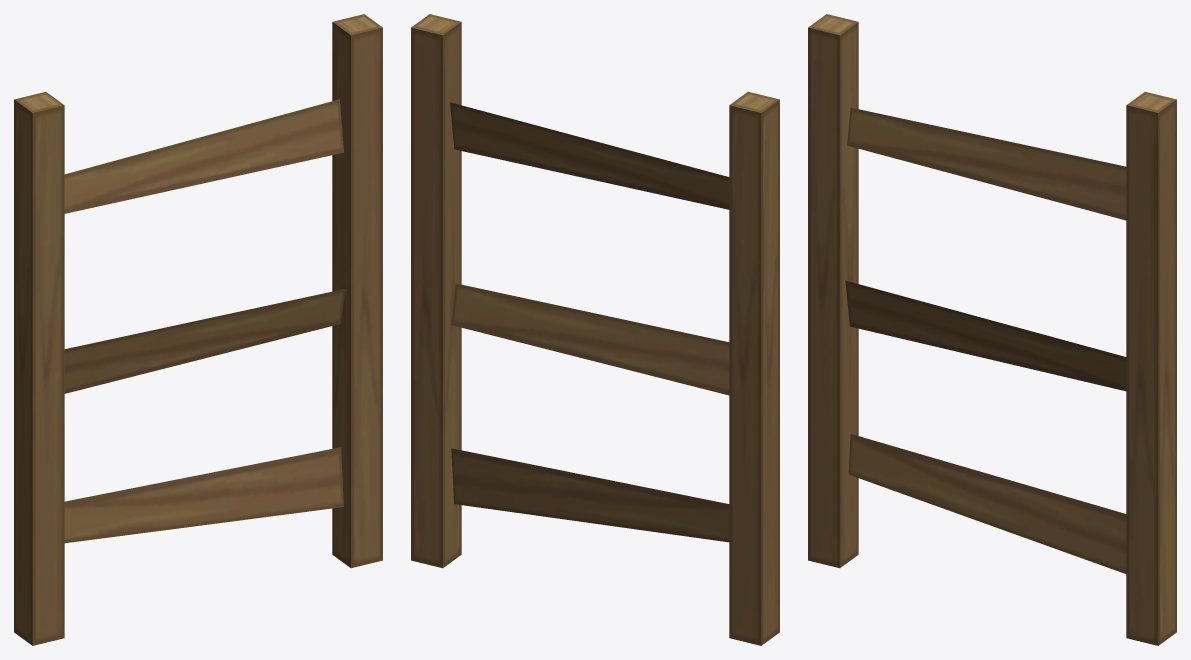
Rendered from ladder.obj.
3 renders of one model, left to right at view 1: azimuth 30°, elevation 25°; view 2: azimuth 150°, elevation 25°; view 3: azimuth 330°, elevation 25°, orthographic.
Parts seen in each view (by area): view 1: ladder; view 2: ladder; view 3: ladder.
Part boxes in pixels (left/top/right/bottom): ladder: left=14, top=14, right=382, bottom=645; ladder: left=411, top=14, right=779, bottom=645; ladder: left=808, top=14, right=1176, bottom=645.
Bounding box in the file's own units: 0.6875 × 1 × 0.063.
Materials: 1 (1 with a texture image).
